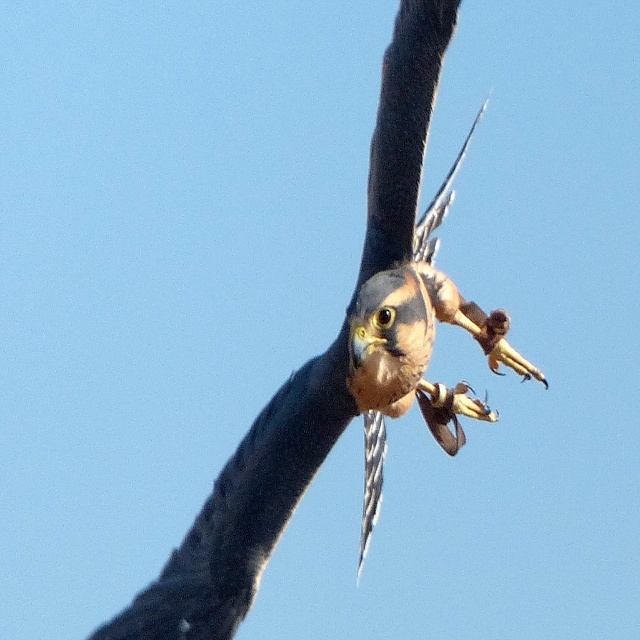Eagle: (85, 0, 549, 640)
